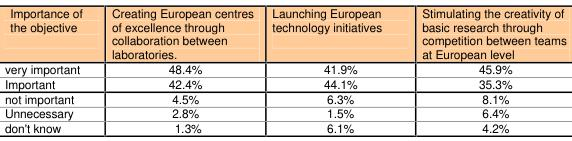table: (3, 4, 565, 135)
table column: (96, 4, 262, 135), (401, 4, 565, 135), (262, 4, 401, 135), (3, 4, 96, 135)
table column header: (3, 4, 565, 61)
table row: (3, 4, 565, 61), (3, 119, 565, 135), (3, 75, 565, 90), (3, 90, 565, 105), (3, 61, 565, 75), (3, 105, 565, 119)
